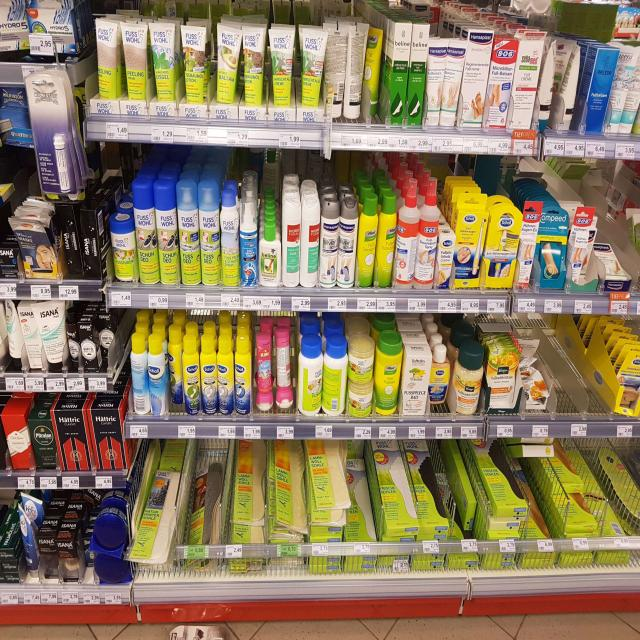unorganised: (235, 439, 354, 554), (130, 445, 180, 579), (326, 25, 384, 126), (299, 334, 348, 418), (539, 35, 580, 134), (393, 178, 420, 296), (12, 503, 41, 586), (127, 331, 149, 423), (273, 331, 296, 419), (518, 358, 551, 412), (166, 329, 185, 417), (429, 348, 453, 415), (2, 301, 22, 374)
